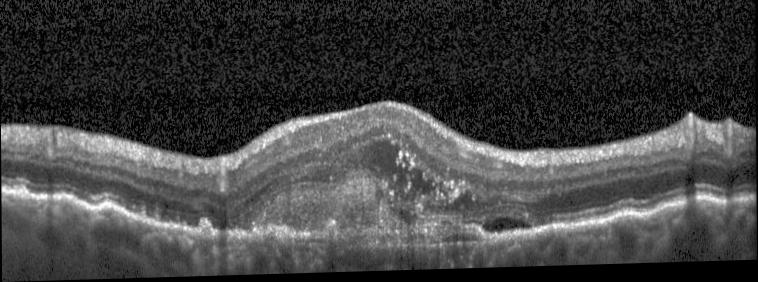neuroepithelium_detachment: (485, 219, 532, 236), (397, 212, 418, 225)
retinal_drusen: (658, 204, 713, 219), (45, 197, 87, 211), (98, 207, 124, 219), (611, 219, 640, 227), (198, 223, 210, 240), (10, 185, 27, 197)
subretinal_hyperreflective_material: (247, 170, 486, 246)
